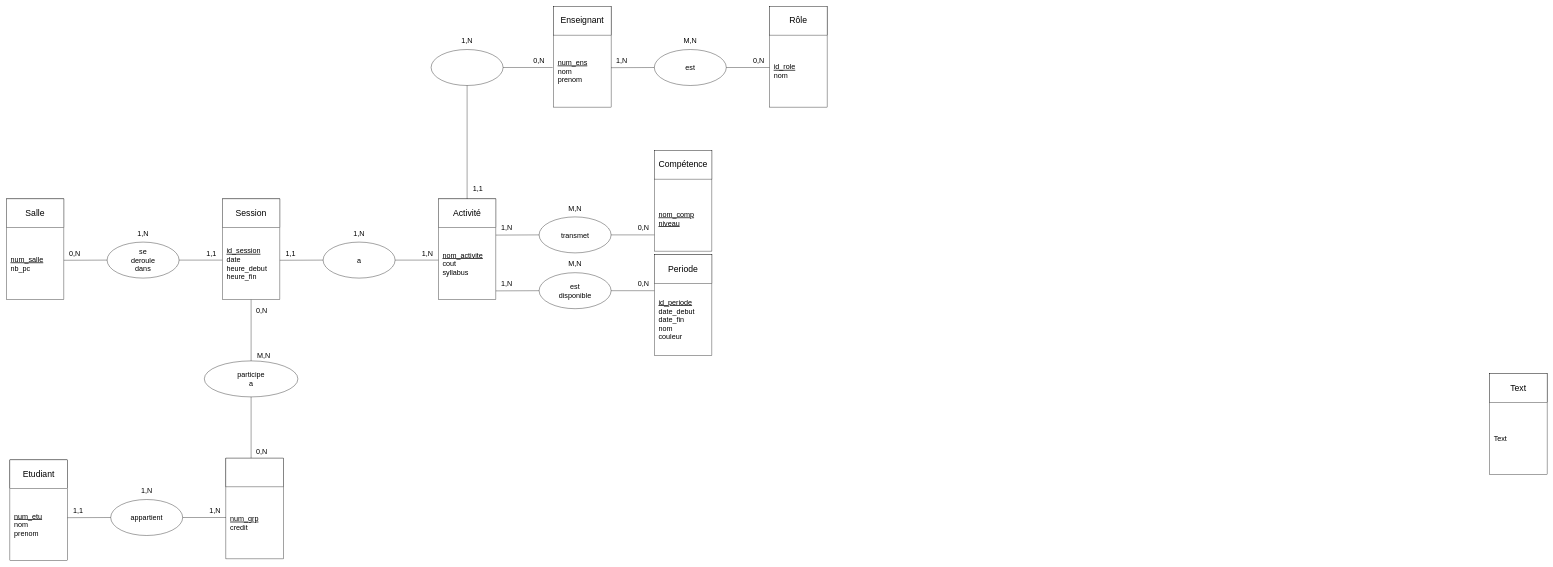
Some shapes in this 1553 by 567 pixel diagram are drawn without their labels. Here are the shapes that lost their labels. From the top down, the centre of each, then its label:
pixel 467 67: anime
pixel 255 472: Groupe
